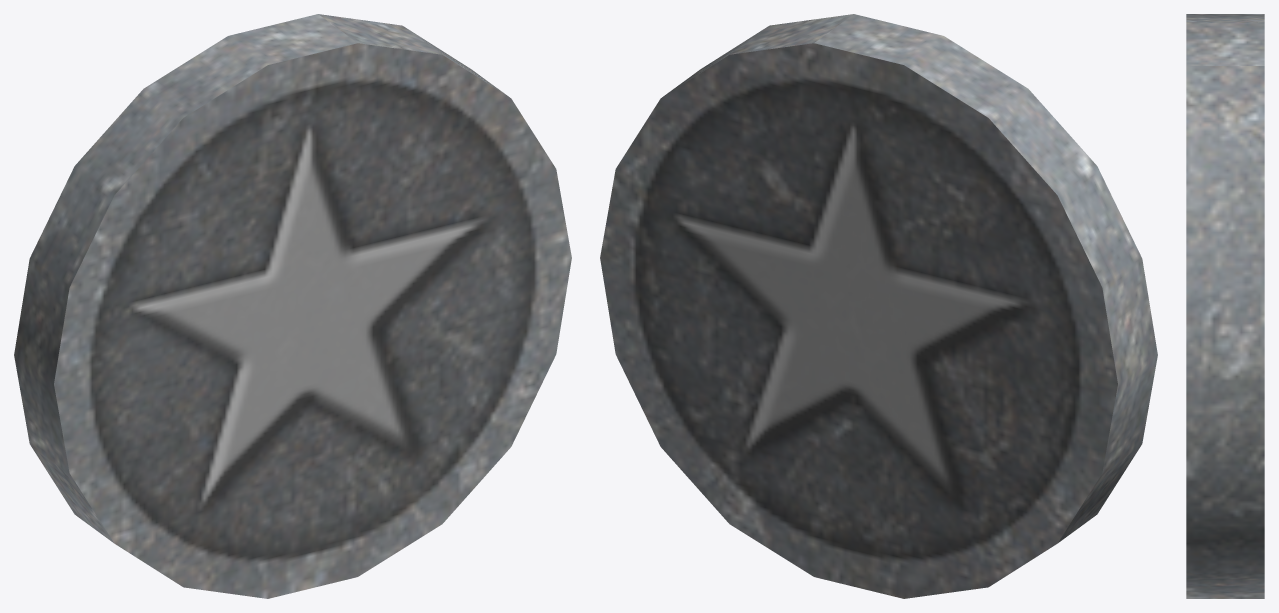
File: GAM0110015.fbx
The picture shows the model from 3 angles, left to right: view 1: azimuth 30°, elevation 25°; view 2: azimuth 150°, elevation 25°; view 3: azimuth 270°, elevation 25°; orthographic projection.
Visible parts, largest first — view 1: smGAM0110015; view 2: smGAM0110015; view 3: smGAM0110015.
Boxes of the visible parts, bbox=[...] form: smGAM0110015: bbox=[14, 14, 571, 598]; smGAM0110015: bbox=[600, 14, 1157, 598]; smGAM0110015: bbox=[1186, 14, 1264, 598].
Size of the model in its own units: 14.75 by 14.52 by 1.97.
1 material, 1 textured.
